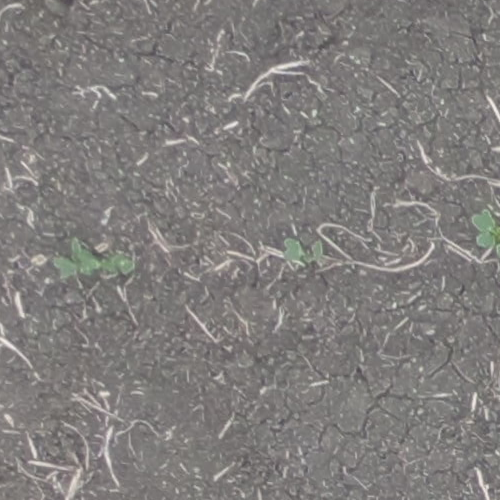clumped: (52, 238, 137, 276)
isolated: (470, 209, 499, 258), (281, 238, 327, 265)
